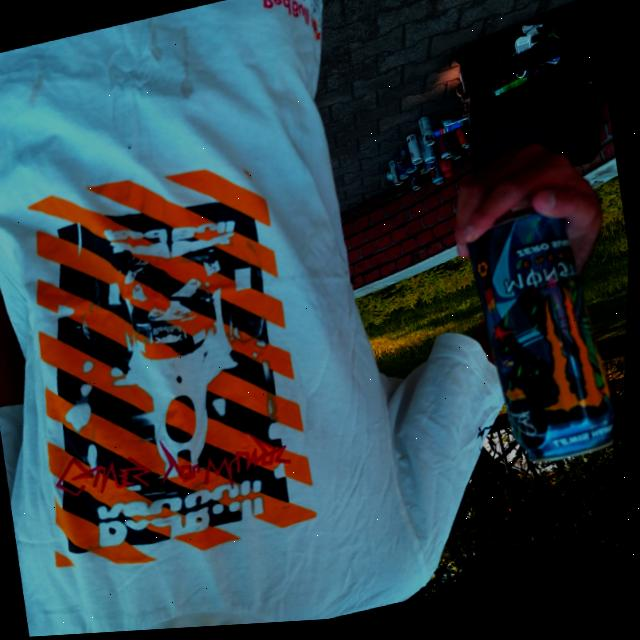Coca Cola: (465, 151, 473, 163)
Coca Cola Plus: (405, 136, 423, 169)
Coolberg: (436, 137, 452, 165)
Monster LH44: (457, 212, 631, 487)
Monster Mango Loco: (428, 169, 443, 192)
Nescafe Classic Iced Latte: (388, 164, 399, 189)
Pepsi: (432, 125, 464, 144)
Pepsi Retro: (421, 148, 436, 167)
Prime - Shitass: (437, 163, 455, 183)
Redbul: (515, 68, 548, 85), (441, 116, 466, 133), (408, 176, 422, 196), (543, 61, 561, 75)
Redbull DanceYourStyle: (400, 150, 413, 177)
Redbull Summer Edition: (416, 119, 436, 152)
Redbull Yellow Edition: (455, 131, 470, 155)
Schweppes: (489, 78, 529, 104), (448, 140, 462, 165)
Thums Up: (394, 156, 405, 184)
